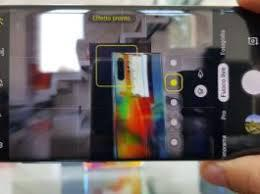Smartphone: (0, 7, 260, 163)
